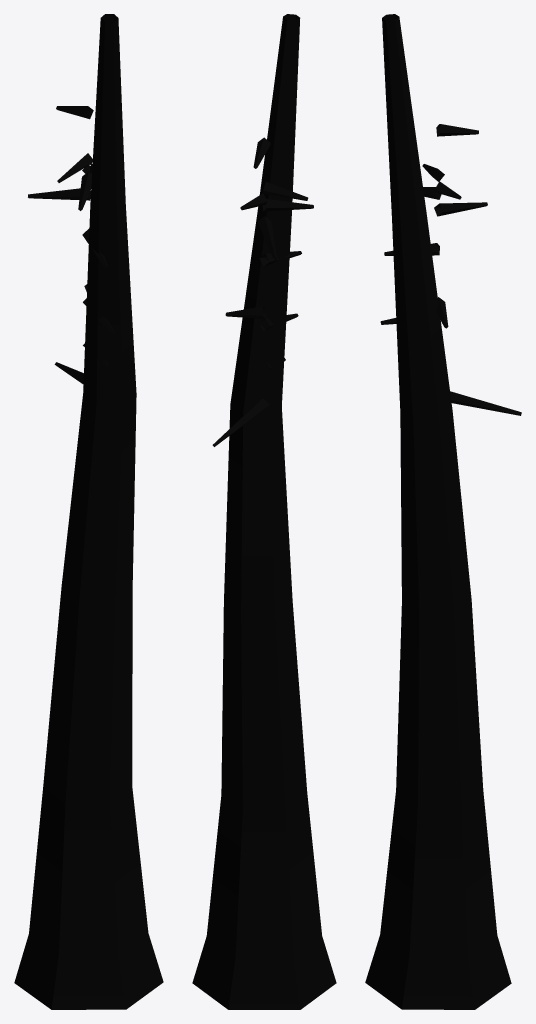
The model's file is SM_tree_burnt.fbx.
3 renders of one model, left to right at view 1: azimuth 30°, elevation 25°; view 2: azimuth 150°, elevation 25°; view 3: azimuth 270°, elevation 25°, orthographic. The views are drawn at different scales.
Visible parts, largest first — view 1: tree_burnt; view 2: tree_burnt; view 3: tree_burnt.
Part boxes in pixels (x1,y1,x2,y2): tree_burnt: [14, 14, 163, 1009]; tree_burnt: [192, 14, 336, 1009]; tree_burnt: [365, 14, 521, 1009].
Size of the model in its own units: 0.7275 by 6.11 by 0.8981.
